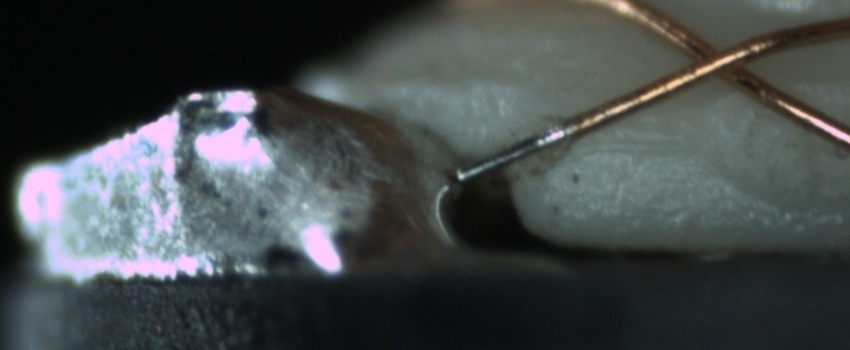CL: (667, 26, 776, 94)
DL: (562, 115, 695, 175)
TS: (455, 120, 571, 184)
TTCW: (450, 100, 613, 181)
